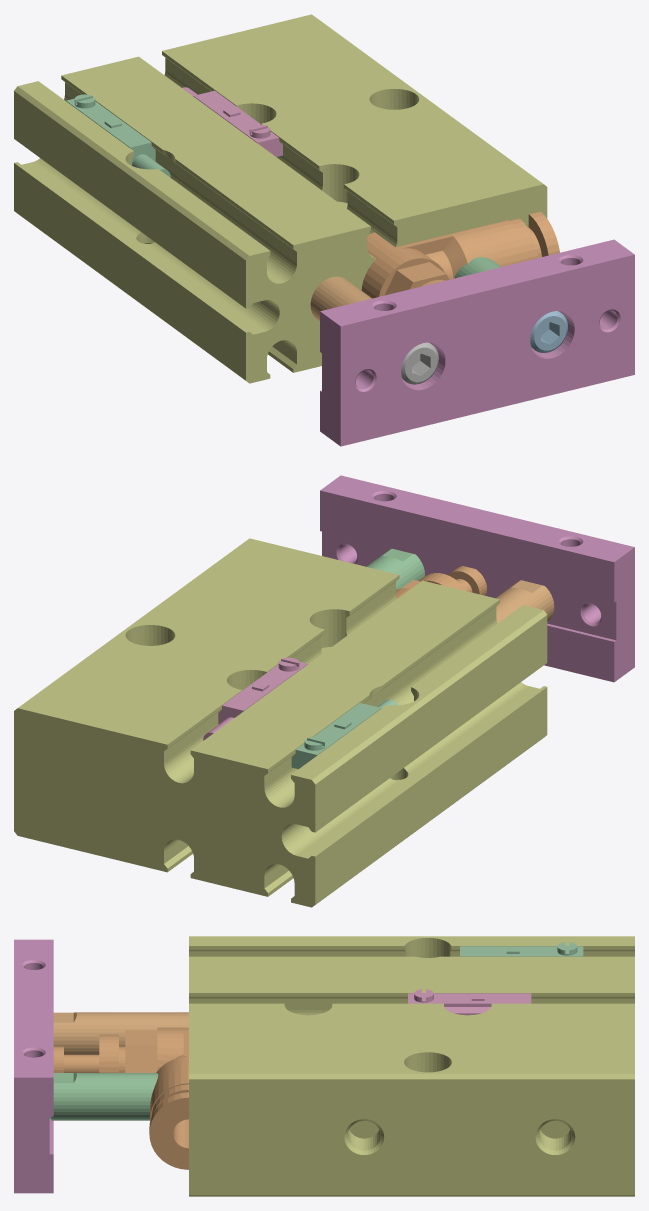
Rendered from case-02_gpt54mini.glb.
3 views of the same model, one above another, from view 1: azimuth 30°, elevation 25°; view 2: azimuth 150°, elevation 25°; view 3: azimuth 270°, elevation 25° (orthographic). The views are drawn at different scales.
Parts seen in each view (by area): view 1: c00001, c00002, c00009, c00008, c00007, c00003, c00005, c00006; view 2: c00001, c00002, c00007, c00008, c00003, c00009, c00004; view 3: c00001, c00002, c00009, c00004, c00003, c00007, c00008.
Part boxes in pixels (bbox=[...]): c00001: bbox=[14, 14, 547, 383]; c00002: bbox=[320, 239, 634, 446]; c00009: bbox=[361, 211, 559, 298]; c00008: bbox=[66, 94, 170, 177]; c00007: bbox=[182, 87, 282, 156]; c00003: bbox=[310, 276, 371, 321]; c00005: bbox=[401, 342, 438, 384]; c00006: bbox=[530, 311, 567, 352]; c00001: bbox=[14, 538, 547, 907]; c00002: bbox=[320, 475, 634, 682]; c00007: bbox=[203, 657, 307, 740]; c00008: bbox=[291, 699, 398, 769]; c00003: bbox=[496, 580, 554, 623]; c00009: bbox=[396, 566, 486, 598]; c00004: bbox=[366, 548, 424, 589]; c00001: bbox=[189, 936, 634, 1196]; c00002: bbox=[14, 939, 53, 1193]; c00009: bbox=[53, 1027, 188, 1169]; c00004: bbox=[49, 1073, 158, 1120]; c00003: bbox=[53, 1012, 188, 1054]; c00007: bbox=[408, 989, 531, 1015]; c00008: bbox=[460, 942, 583, 956].
Bounding box in the file's own units: 42 × 17.69 × 78.
